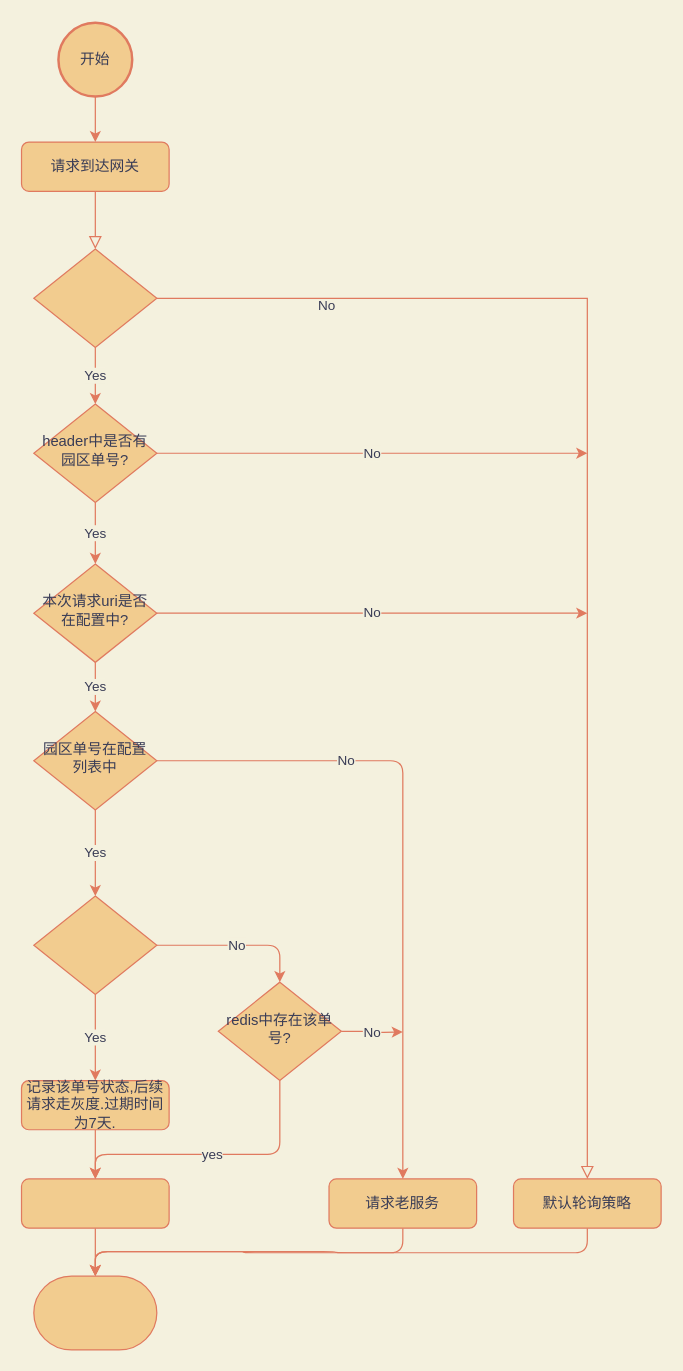
This 683x1371 diagram has some shape labels left out. Each missing label, with the box of its shape:
是否打开灰度开关?: (33, 248, 157, 347)
本次请求uri是否是签到请求?: (33, 895, 157, 994)
结束: (33, 1275, 157, 1350)
请求灰度服务: (20, 1178, 169, 1228)
